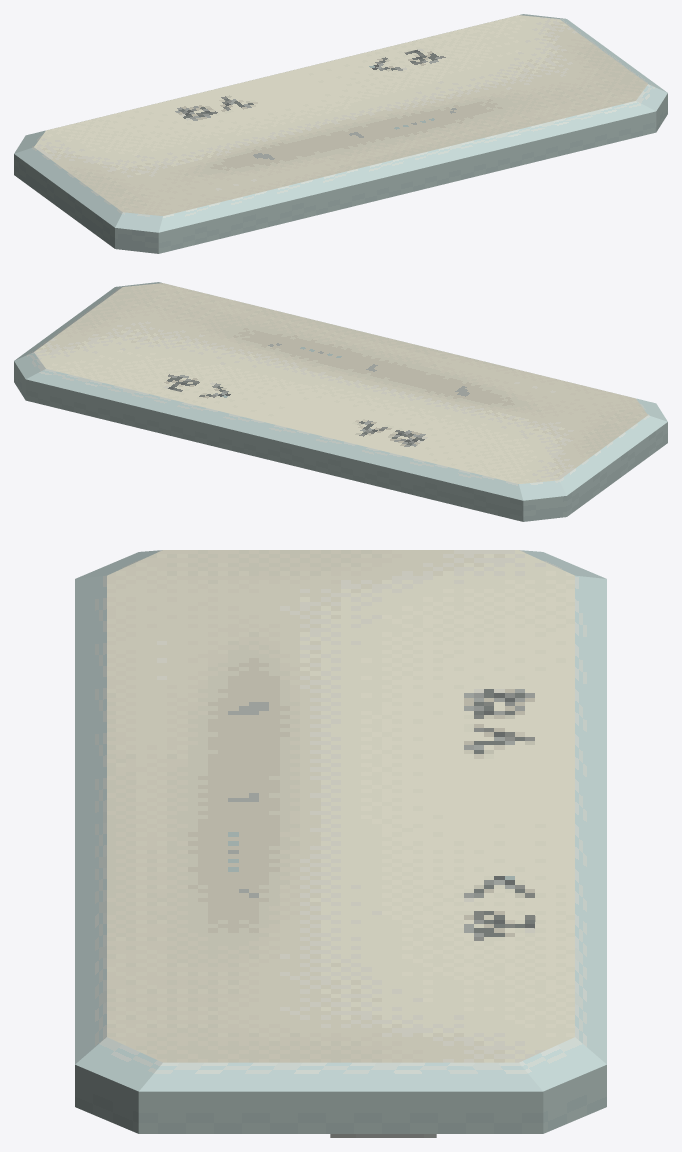
The model's file is prop_item_name_tag.glb.
The picture shows the model from 3 angles, top to bottom: view 1: azimuth 30°, elevation 25°; view 2: azimuth 150°, elevation 25°; view 3: azimuth 270°, elevation 25°; orthographic projection. The views are drawn at different scales.
Parts seen in each view (by area): view 1: prop_item_name_tag; view 2: prop_item_name_tag; view 3: prop_item_name_tag.
Part boxes in pixels (<box>): prop_item_name_tag: <box>14,14,667,253</box>; prop_item_name_tag: <box>14,282,667,521</box>; prop_item_name_tag: <box>75,550,606,1137</box>.
Size of the model in its own units: 0.06 by 0.006 by 0.025.
Materials: 1 (1 with a texture image).
